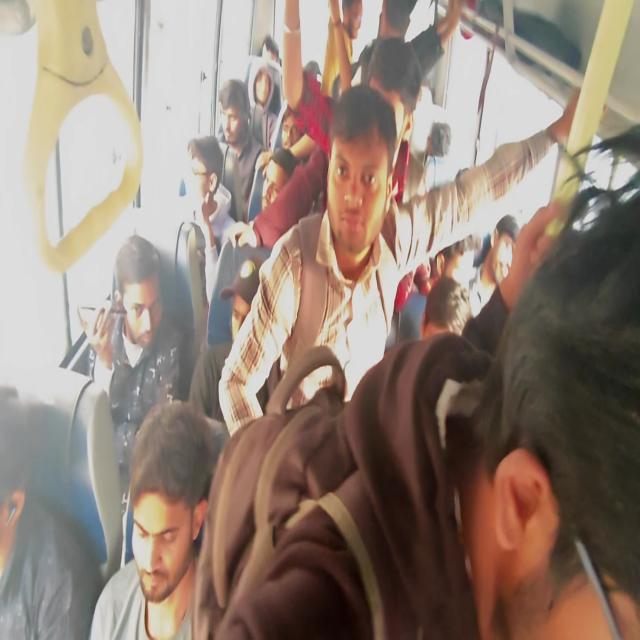person: (109, 457, 217, 640), (0, 398, 60, 640), (98, 242, 180, 411), (329, 104, 384, 235), (203, 262, 264, 373), (365, 46, 412, 136), (422, 273, 466, 359), (418, 107, 470, 178), (181, 136, 222, 218), (206, 86, 255, 143), (434, 220, 473, 284), (267, 169, 294, 260), (489, 229, 522, 294), (377, 0, 415, 32), (247, 62, 269, 101), (255, 28, 280, 59), (272, 120, 290, 159), (340, 0, 359, 35), (298, 66, 320, 91)
